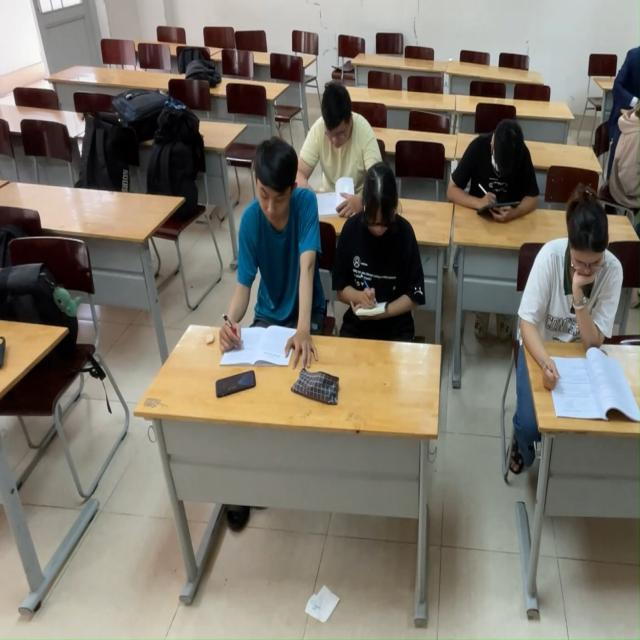read: (218, 148, 328, 375), (537, 204, 636, 427), (332, 180, 424, 338), (451, 119, 548, 231)
